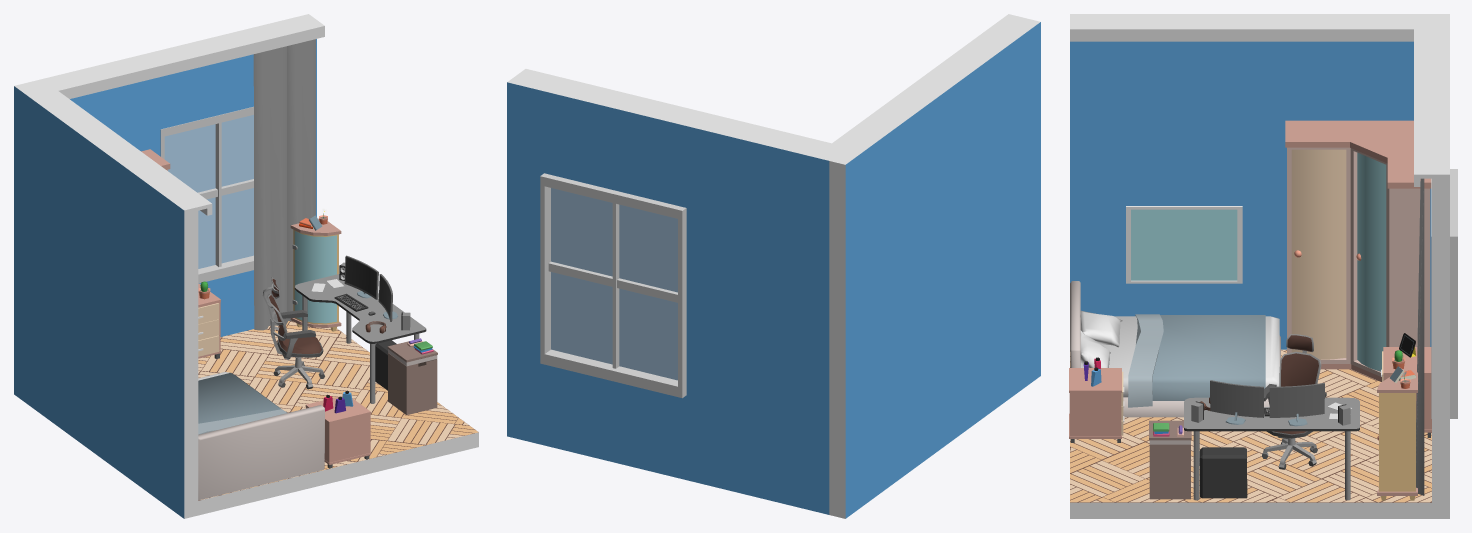
The model's file is room_20.glb.
3 views of the same model, side by side, from view 1: azimuth 30°, elevation 25°; view 2: azimuth 150°, elevation 25°; view 3: azimuth 270°, elevation 25° (orthographic). The views are drawn at different scales.
Parts seen in each view (by area): view 1: Walls_075.002, Curtains_023.001, floor_021.001, bed_016.001, window_008.001, Walls_009.002, Walls_075.005, Walls_075.003, shelf_061.001, office_table_001.001, bathroom_item_017.001, Walls_003.002 (+8 smaller); view 2: Walls_075.002, Walls_075.003, window_008.001, Walls_075.001, Walls_075.005, Walls_075.004, Walls_003.004, Walls_003.002; view 3: Walls_075.002, closet_031.001, floor_021.001, bed_016.001, Walls_009.002, picture_041.001, Walls_075.001, Walls_003.004, shelf_061.001, office_table_001.001, shelf_060.001, bathroom_item_017.001 (+11 smaller).
Boxes of the visible parts, <box> form: Walls_075.002: <box>14,82,198,518</box>; Curtains_023.001: <box>253,39,315,330</box>; floor_021.001: <box>198,321,478,499</box>; bed_016.001: <box>198,372,324,499</box>; window_008.001: <box>160,106,253,283</box>; Walls_009.002: <box>198,321,478,515</box>; Walls_075.005: <box>155,22,281,128</box>; Walls_075.003: <box>28,51,162,156</box>; shelf_061.001: <box>290,218,341,331</box>; office_table_001.001: <box>294,274,426,403</box>; bathroom_item_017.001: <box>387,338,437,414</box>; Walls_003.002: <box>50,20,324,93</box>; Walls_075.002: <box>829,18,1040,518</box>; Walls_075.003: <box>684,119,838,514</box>; window_008.001: <box>540,173,686,398</box>; Walls_075.001: <box>507,75,555,445</box>; Walls_075.005: <box>547,85,693,207</box>; Walls_075.004: <box>547,365,684,479</box>; Walls_003.004: <box>823,14,1023,153</box>; Walls_003.002: <box>516,69,831,149</box>; Walls_075.002: <box>1070,14,1449,349</box>; closet_031.001: <box>1285,120,1431,381</box>; floor_021.001: <box>1070,349,1431,502</box>; bed_016.001: <box>1070,281,1280,417</box>; Walls_009.002: <box>1070,350,1431,518</box>; picture_041.001: <box>1126,206,1242,283</box>; Walls_075.001: <box>1432,155,1449,518</box>; Walls_003.004: <box>1070,21,1431,33</box>; shelf_061.001: <box>1377,372,1417,500</box>; office_table_001.001: <box>1184,397,1359,500</box>; shelf_060.001: <box>1069,368,1124,442</box>; bathroom_item_017.001: <box>1149,420,1191,499</box>.
Bounding box in the file's own units: 4.2 × 4.2 × 4.3.
1 material, 1 textured.
